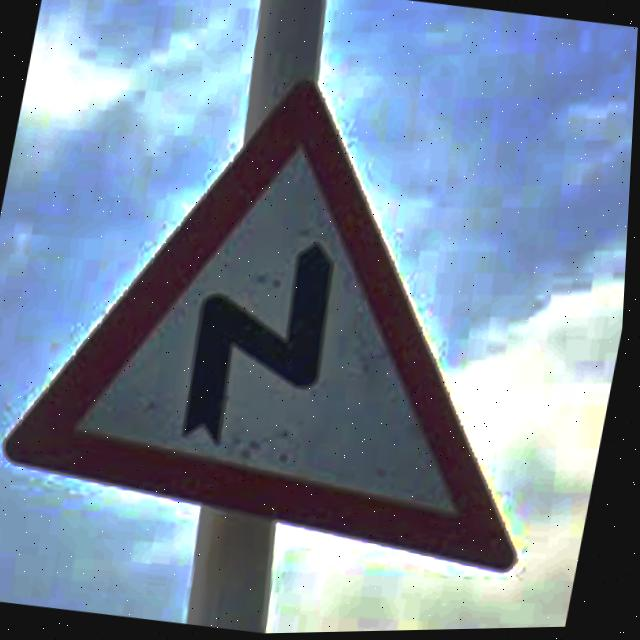doublebendright: (9, 82, 525, 577)
